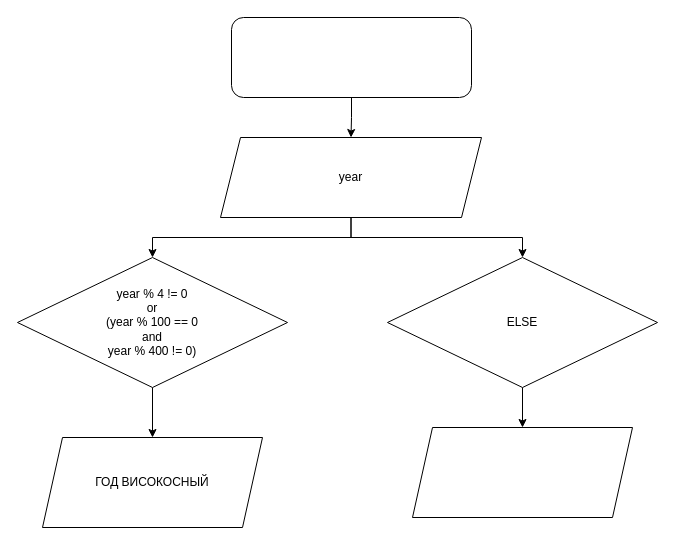
Some shapes in this 675 by 545 pixel diagram are drawn without their labels. The shapes that lost their labels are listed below. From the top down, each one's centre as x and y in pixels, then its label:
At point 351,57: "НАЧАЛО".
At point 522,472: "ГОД НЕВИСОКОСНЫЙ".
